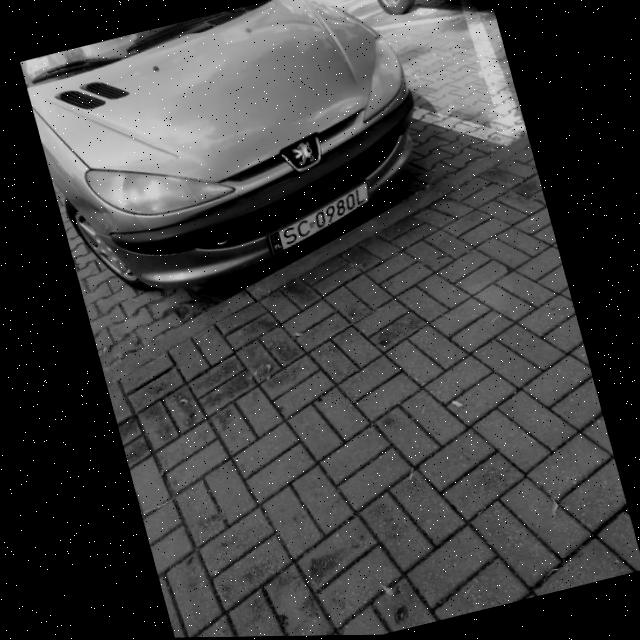license-plates: (269, 182, 368, 252)
